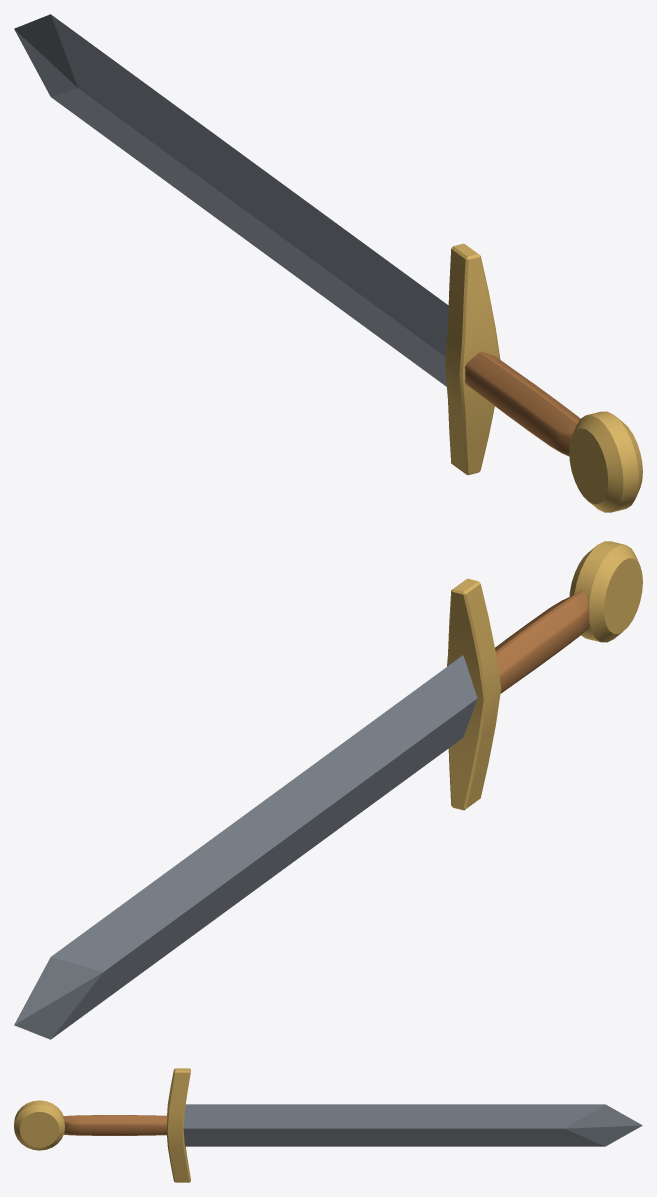
The model's file is Sword_basic.fbx.
3 renders of one model, top to bottom at view 1: azimuth 30°, elevation 25°; view 2: azimuth 150°, elevation 25°; view 3: azimuth 270°, elevation 25°, orthographic. The views are drawn at different scales.
Visible parts, largest first — view 1: Blade, Hand Guard, Pommel, Handle; view 2: Blade, Hand Guard, Pommel, Handle; view 3: Blade, Handle, Hand Guard, Pommel.
Boxes of the visible parts, x1,y1,x2,y2 form: Blade: [14, 14, 448, 386]; Hand Guard: [445, 243, 500, 475]; Pommel: [569, 411, 642, 512]; Handle: [465, 351, 580, 456]; Blade: [14, 655, 477, 1039]; Hand Guard: [447, 578, 501, 810]; Pommel: [569, 541, 642, 642]; Handle: [495, 591, 589, 693]; Blade: [183, 1104, 642, 1146]; Handle: [63, 1115, 167, 1135]; Hand Guard: [166, 1068, 190, 1182]; Pommel: [14, 1100, 64, 1150].
Size of the model in its own units: 0.216 by 1.08 by 5.53.
